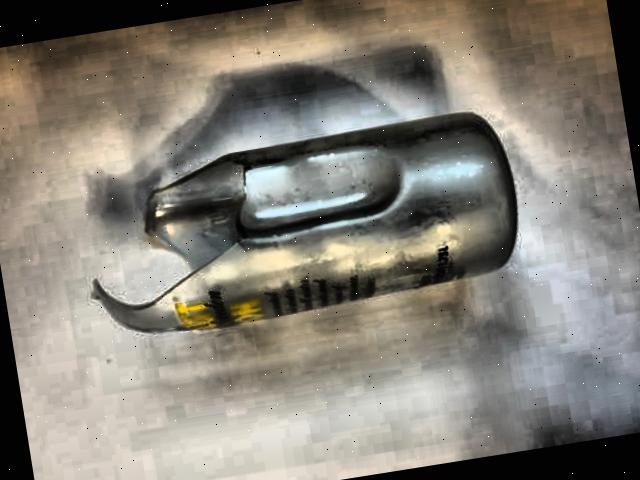Bottles: (87, 80, 530, 368)
